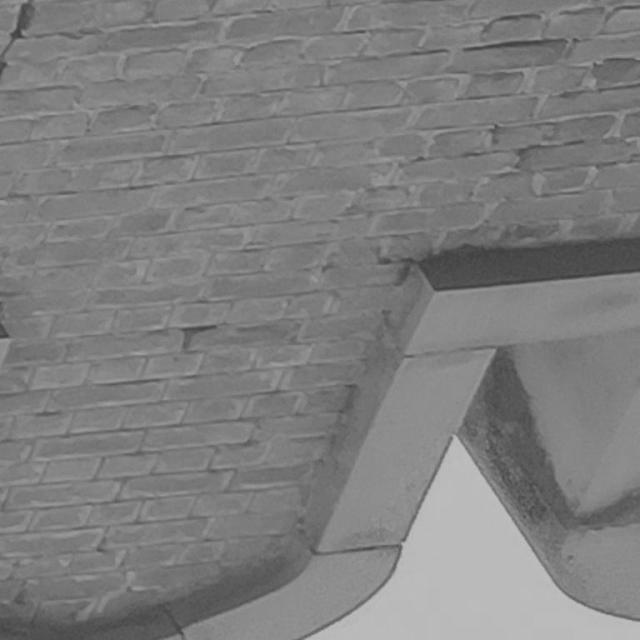crack: (1, 1, 33, 75)
